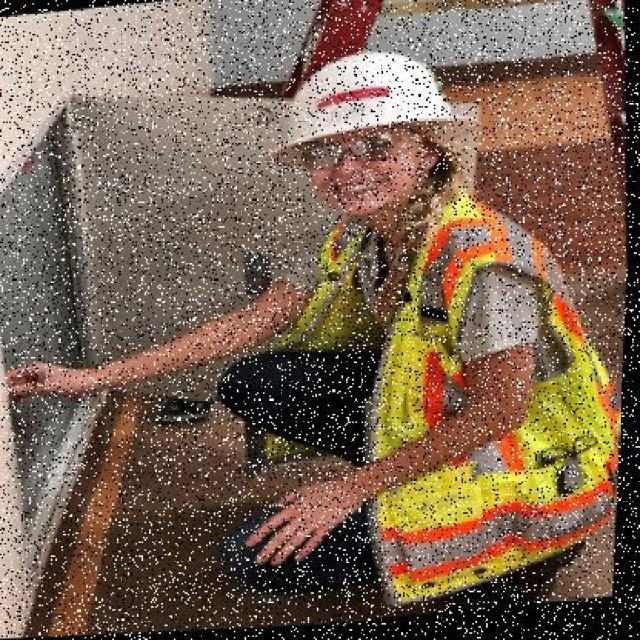helmet: (243, 45, 507, 180)
vest: (255, 177, 631, 617)
